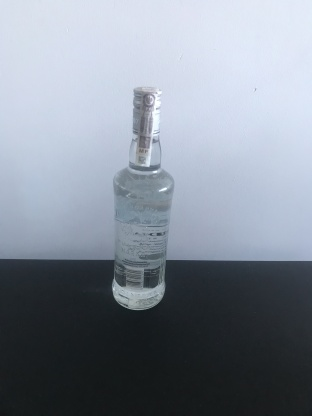nakretka: (130, 83, 163, 138)
